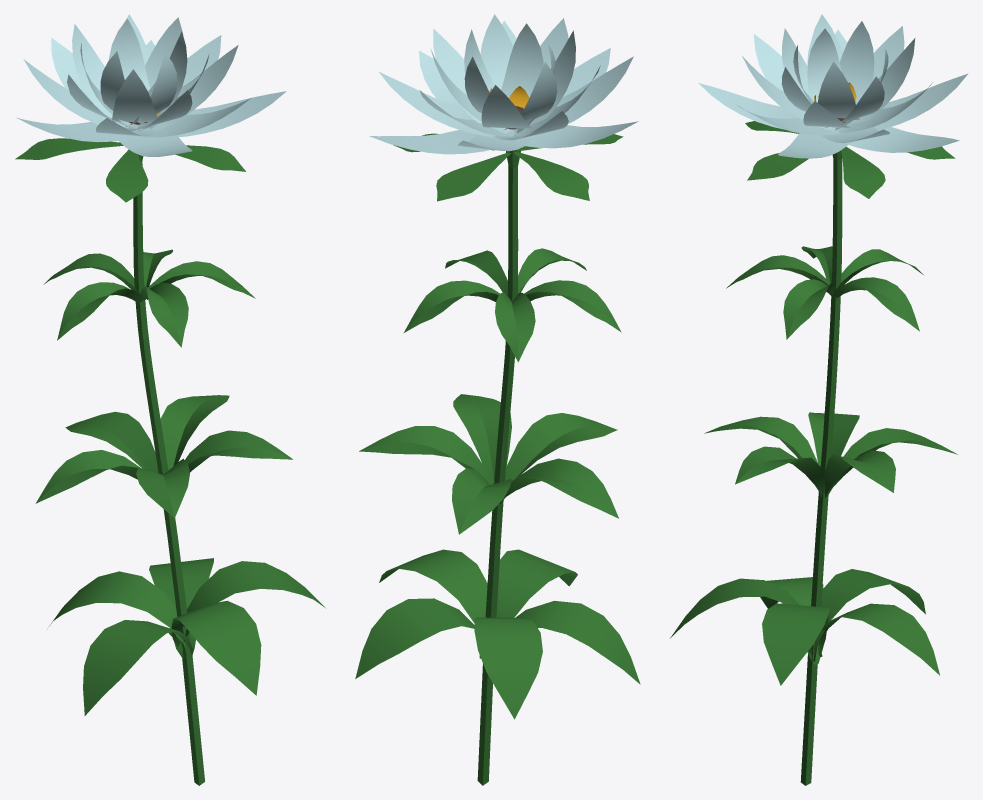
The model's file is plant_lotus_flower_A.fbx.
3 renders of one model, left to right at view 1: azimuth 30°, elevation 25°; view 2: azimuth 150°, elevation 25°; view 3: azimuth 270°, elevation 25°, orthographic. The views are drawn at different scales.
Visible parts, largest first — view 1: lotus_flower_A_leaves, lotus_flower_A, lotus_flower_A_twig, lotus_flower_A_top_leaf; view 2: lotus_flower_A_leaves, lotus_flower_A, lotus_flower_A_twig, lotus_flower_A_top_leaf; view 3: lotus_flower_A_leaves, lotus_flower_A, lotus_flower_A_twig, lotus_flower_A_top_leaf.
Boxes of the visible parts, x1=… form: lotus_flower_A_leaves: x1=35, y1=249, x2=325, y2=715; lotus_flower_A: x1=16, y1=14, x2=286, y2=156; lotus_flower_A_twig: x1=133, y1=154, x2=204, y2=785; lotus_flower_A_top_leaf: x1=15, y1=138, x2=245, y2=202; lotus_flower_A_leaves: x1=355, y1=248, x2=640, y2=719; lotus_flower_A: x1=369, y1=14, x2=638, y2=154; lotus_flower_A_twig: x1=477, y1=149, x2=520, y2=785; lotus_flower_A_top_leaf: x1=393, y1=133, x2=623, y2=201; lotus_flower_A_leaves: x1=670, y1=246, x2=957, y2=685; lotus_flower_A: x1=698, y1=14, x2=968, y2=158; lotus_flower_A_twig: x1=800, y1=150, x2=842, y2=785; lotus_flower_A_top_leaf: x1=745, y1=121, x2=955, y2=198.
Size of the model in its own units: 48.53 by 122 by 45.93.
